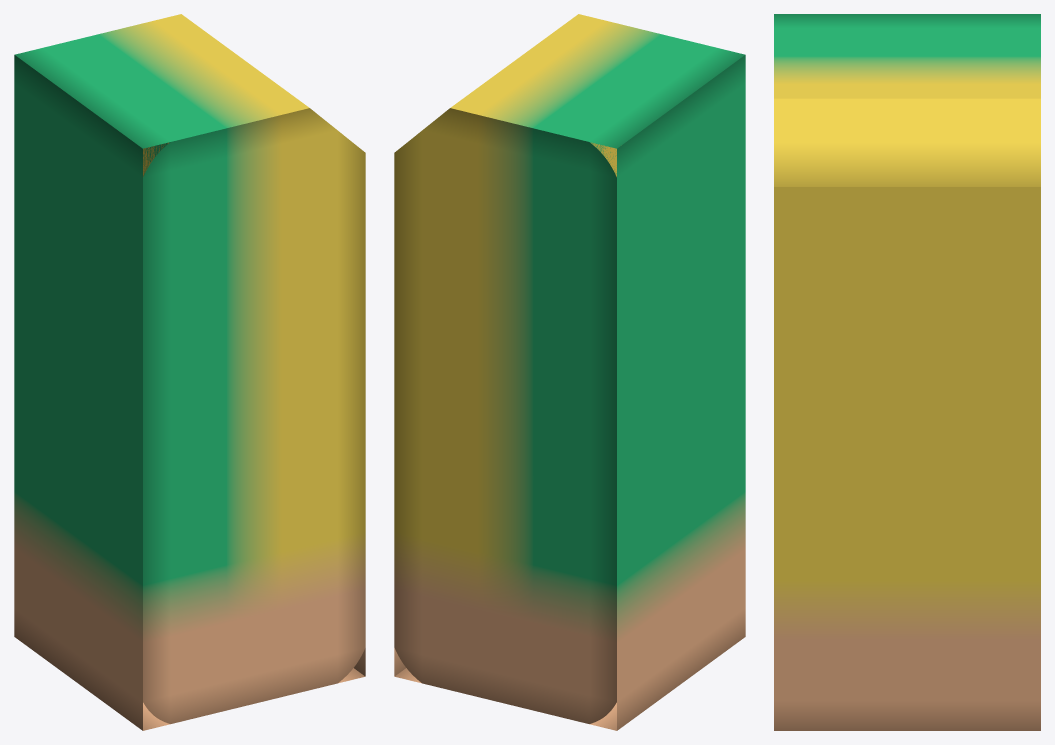
The model's file is ChickenHerderArm.obj.
3 views of the same model, side by side, from view 1: azimuth 30°, elevation 25°; view 2: azimuth 150°, elevation 25°; view 3: azimuth 270°, elevation 25° (orthographic). The views are drawn at different scales.
Bounding box in the file's own units: 2 × 5 × 2.
Materials: 1 (1 with a texture image).
